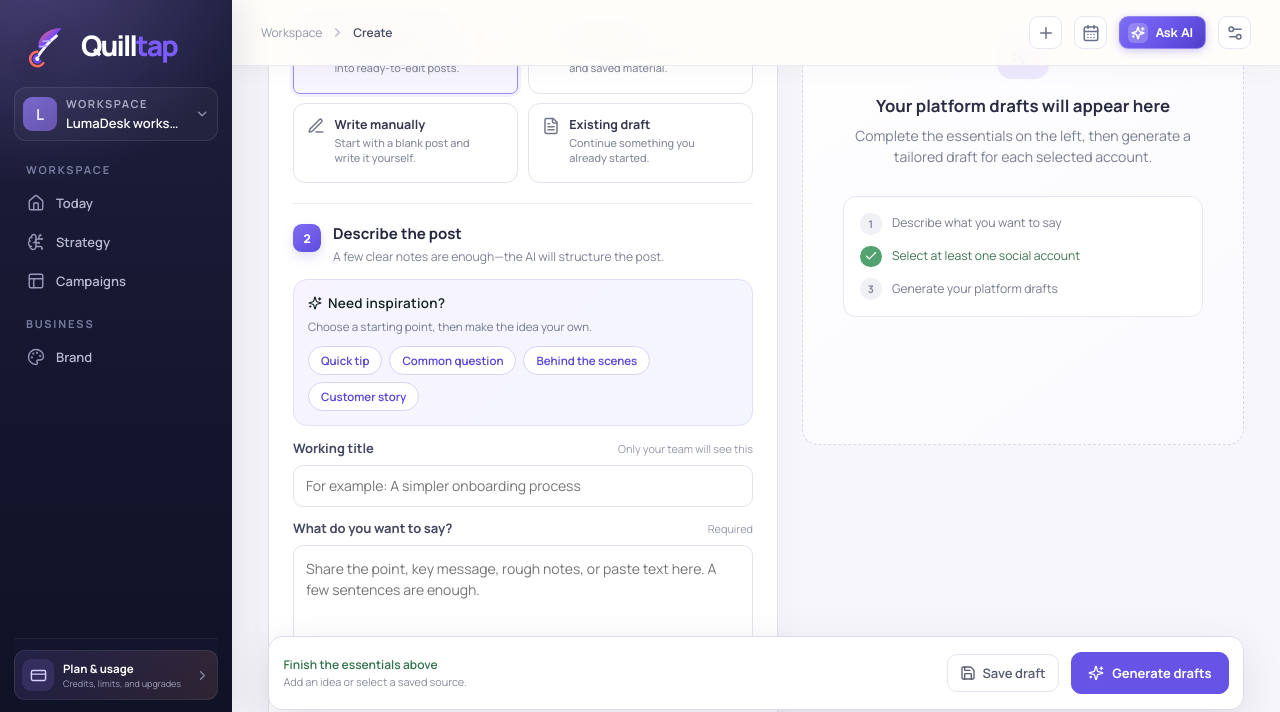
Quilltap › fills a new post from a quick-start idea
This screenshot has width=1280, height=712.
(page scrolled)
Step 1. Click the button "Common question" → (453, 360), box [389,346,516,375]
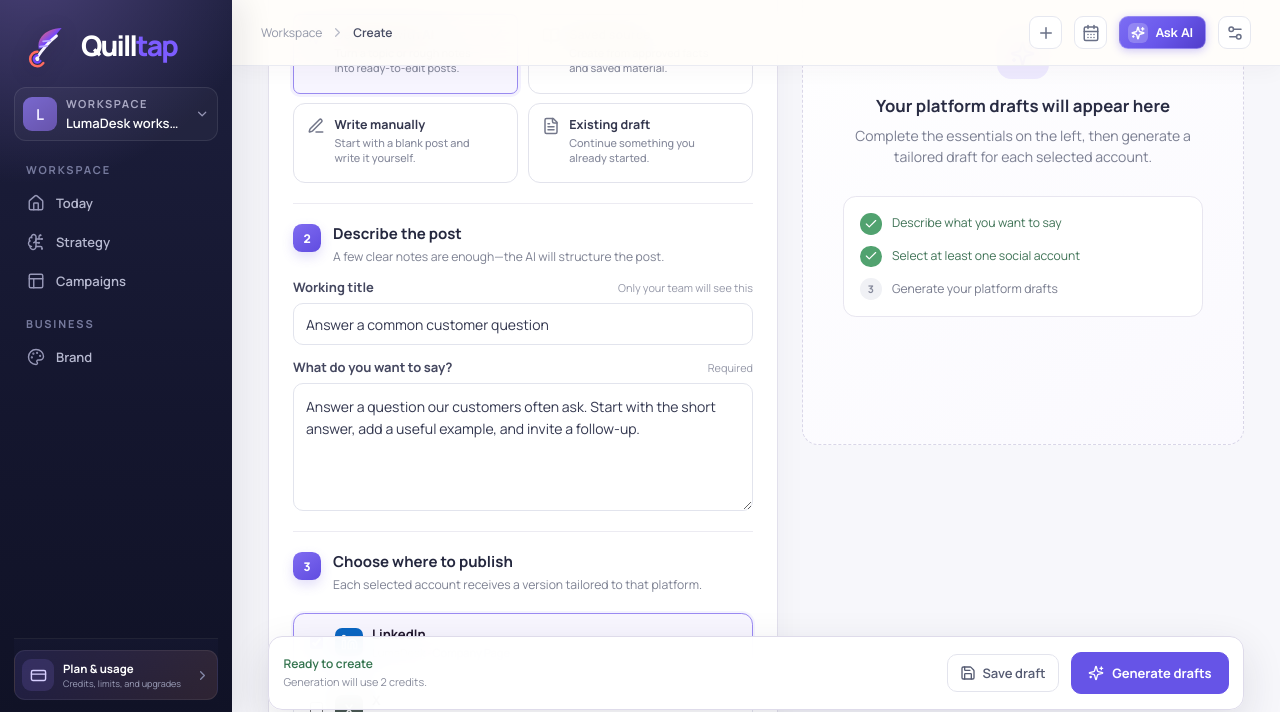
Expected: the field labelled "Working title" holds "Answer a common customer question", [293,303,753,345]
Expected: the button "Common question" is gone
